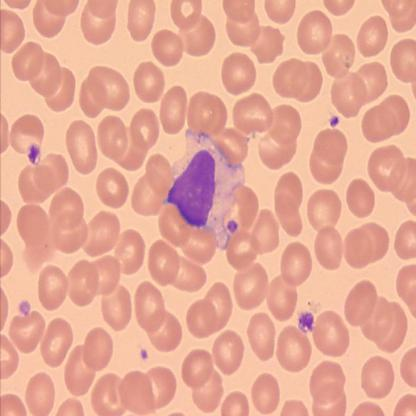Atypical lymphocyte: (165, 127, 244, 250)
